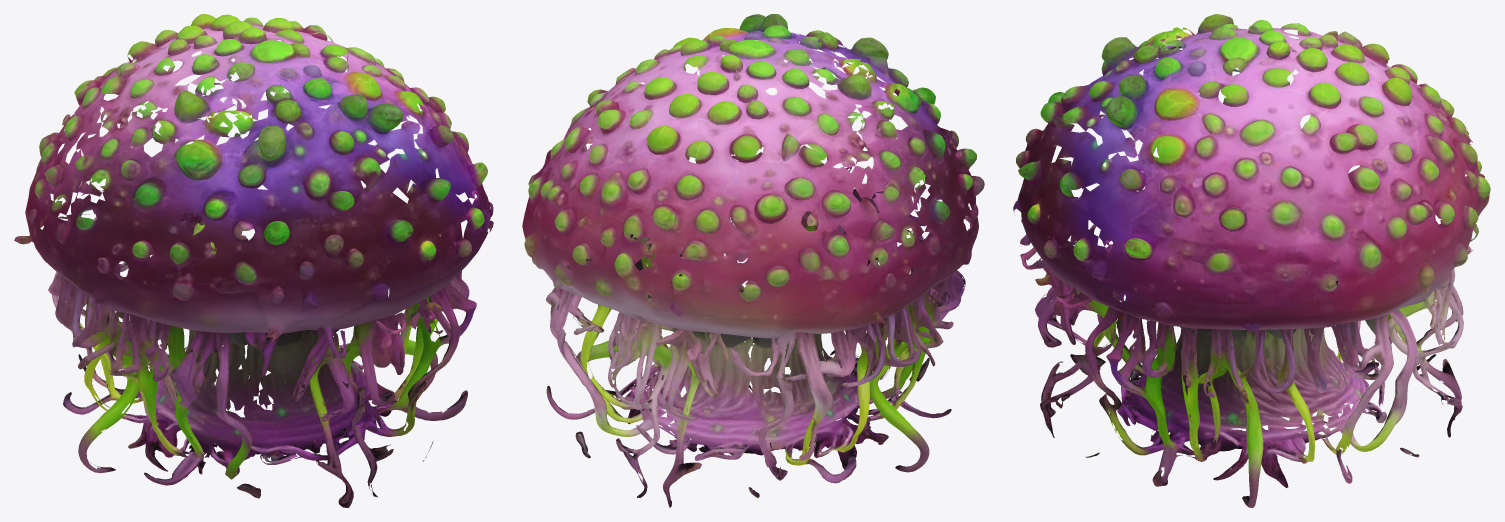
File: prop_pod.glb
3 renders of one model, left to right at view 1: azimuth 30°, elevation 25°; view 2: azimuth 150°, elevation 25°; view 3: azimuth 270°, elevation 25°, orthographic.
Parts seen in each view (by area): view 1: geometry_0.242; view 2: geometry_0.242; view 3: geometry_0.242.
Boxes of the visible parts, box(x1,y1,x2,y2) form: geometry_0.242: box(14, 14, 493, 507); geometry_0.242: box(522, 14, 984, 507); geometry_0.242: box(1013, 14, 1490, 507).
Bounding box in the file's own units: 0.9525 × 0.9257 × 1.
1 material, 1 textured.
